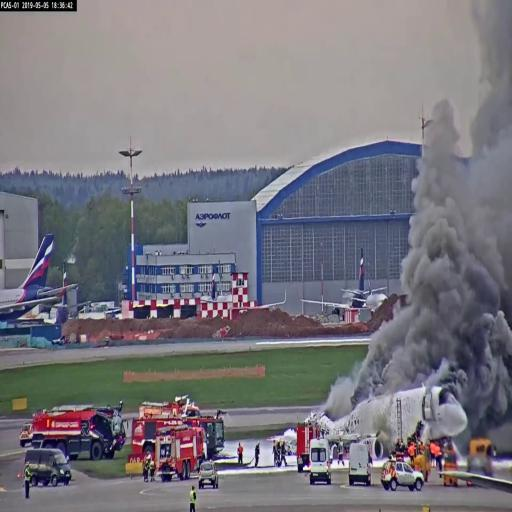smoke: (411, 92, 469, 286), (476, 5, 512, 295), (369, 288, 457, 390), (461, 250, 512, 411)
